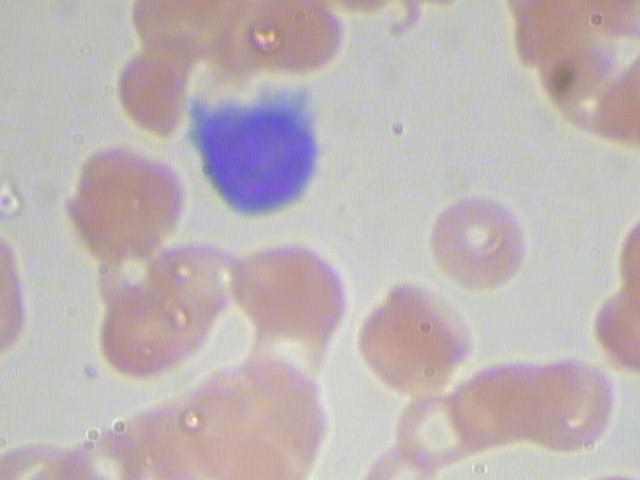RBC: (53, 141, 192, 262), (354, 277, 480, 393), (223, 230, 349, 346), (422, 191, 536, 291), (514, 358, 615, 455), (100, 49, 198, 135), (92, 290, 190, 376), (246, 1, 344, 86), (394, 388, 469, 469)
